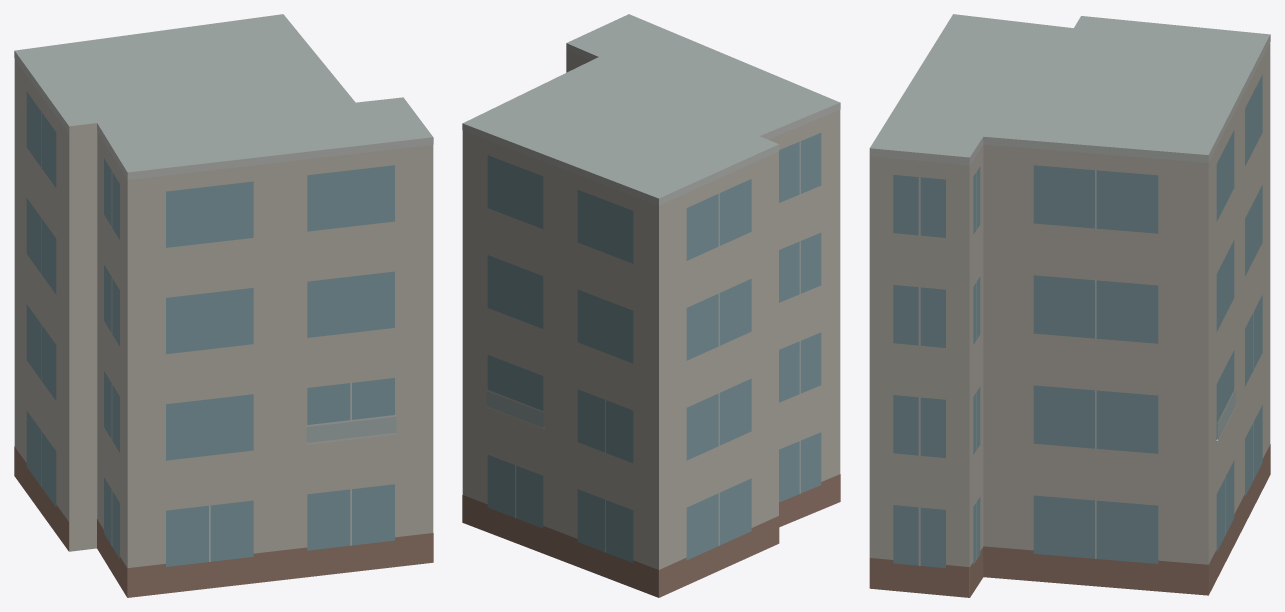
File: survey-upis-32959302.glb
3 views of the same model, side by side, from view 1: azimuth 30°, elevation 25°; view 2: azimuth 150°, elevation 25°; view 3: azimuth 270°, elevation 25° (orthographic). The views are drawn at different scales.
Visible parts, largest first — view 1: survey-upis-32959302.tmp; view 2: survey-upis-32959302.tmp; view 3: survey-upis-32959302.tmp.
Boxes of the visible parts, x1,y1,x2,y2 form: survey-upis-32959302.tmp: (14,14,433,597); survey-upis-32959302.tmp: (462,14,840,597); survey-upis-32959302.tmp: (869,14,1270,597).
Size of the model in its own units: 9.65 by 13.8 by 11.39.
